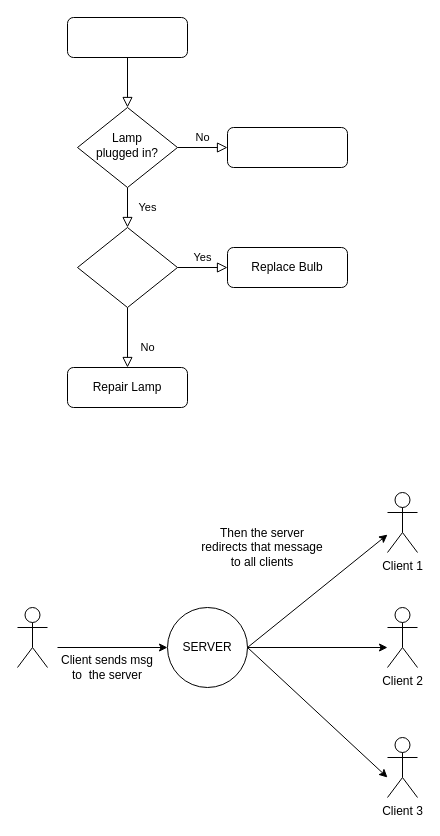
Image size: 440x836. Some labels were removed from this diagram. Here are the shapes that lost their labels. From the top down, the box of each, then its label:
(66, 16, 188, 58): login
(226, 126, 348, 168): Plug in lamp
(76, 226, 178, 308): Bulb burned out?
(16, 606, 48, 668): Client
